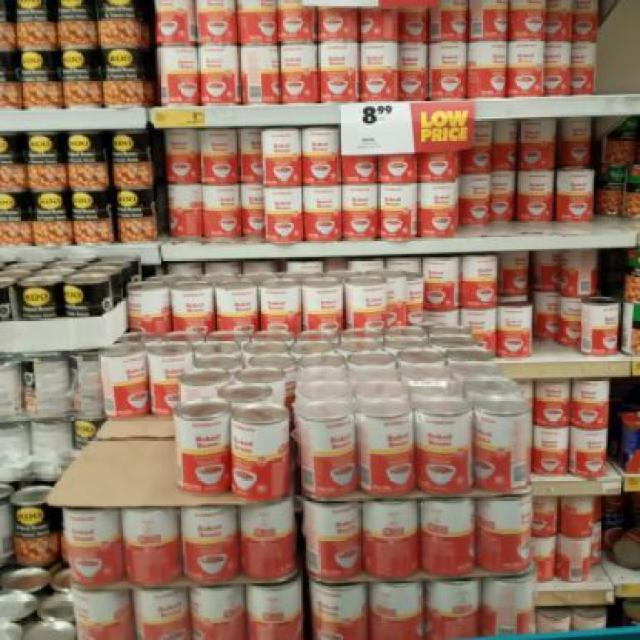Beans: (174, 417, 232, 460), (154, 42, 198, 80), (104, 45, 144, 86), (422, 417, 462, 458), (11, 502, 57, 535), (68, 192, 112, 226), (368, 424, 412, 458), (18, 49, 58, 86), (16, 284, 58, 319), (303, 286, 345, 320), (103, 356, 149, 387), (171, 290, 215, 322), (280, 41, 320, 76), (127, 288, 170, 320), (264, 128, 302, 164), (111, 132, 149, 168), (321, 39, 357, 76), (508, 40, 547, 74), (60, 281, 100, 314), (148, 354, 192, 384), (572, 428, 614, 459), (311, 426, 354, 456), (358, 44, 402, 73), (434, 38, 469, 74), (66, 47, 102, 82), (27, 132, 62, 168), (186, 517, 225, 549), (67, 522, 115, 548), (218, 290, 262, 318), (202, 42, 236, 78), (119, 188, 156, 221), (555, 171, 597, 200), (234, 418, 263, 460), (304, 128, 342, 160), (501, 304, 536, 338), (423, 183, 460, 215), (164, 130, 202, 161), (262, 287, 300, 318), (34, 190, 71, 221), (267, 187, 302, 219), (465, 258, 500, 290), (378, 184, 419, 211), (341, 187, 379, 216), (305, 188, 341, 218), (588, 307, 626, 335), (424, 256, 459, 286), (536, 383, 576, 409), (536, 424, 570, 454), (202, 130, 238, 158), (320, 518, 358, 544), (519, 174, 555, 201), (204, 187, 238, 215), (68, 137, 98, 168), (0, 194, 29, 226), (575, 382, 610, 406), (520, 123, 554, 145), (465, 173, 489, 204)
